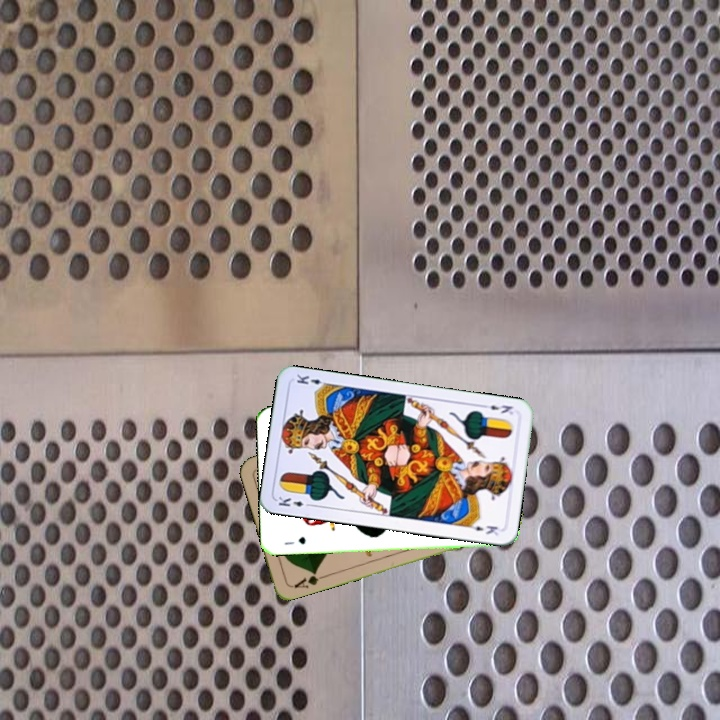EK: (274, 492, 315, 509), (478, 400, 516, 417)
GA: (288, 567, 328, 591)
GU: (280, 533, 308, 547)
